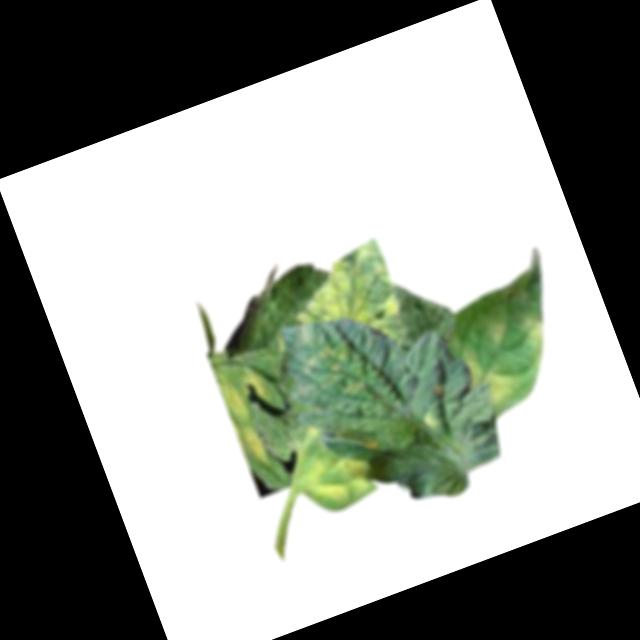Leaf_Mold: (277, 237, 413, 374), (292, 440, 383, 523), (456, 343, 523, 414), (300, 339, 359, 389), (515, 313, 556, 367), (216, 376, 254, 430), (235, 420, 273, 468), (237, 368, 269, 407), (480, 310, 513, 347), (336, 373, 372, 404), (417, 406, 442, 434), (359, 431, 384, 456)
